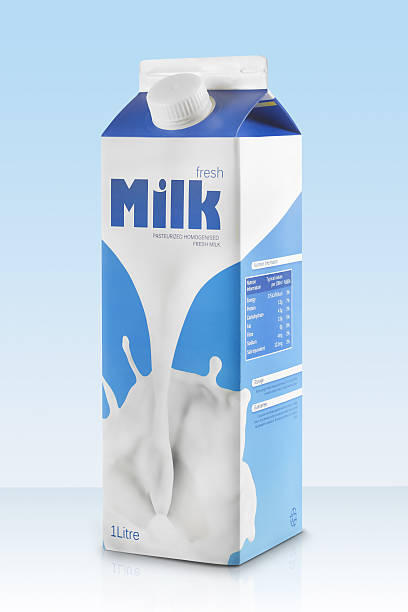carton: (62, 40, 357, 592)
